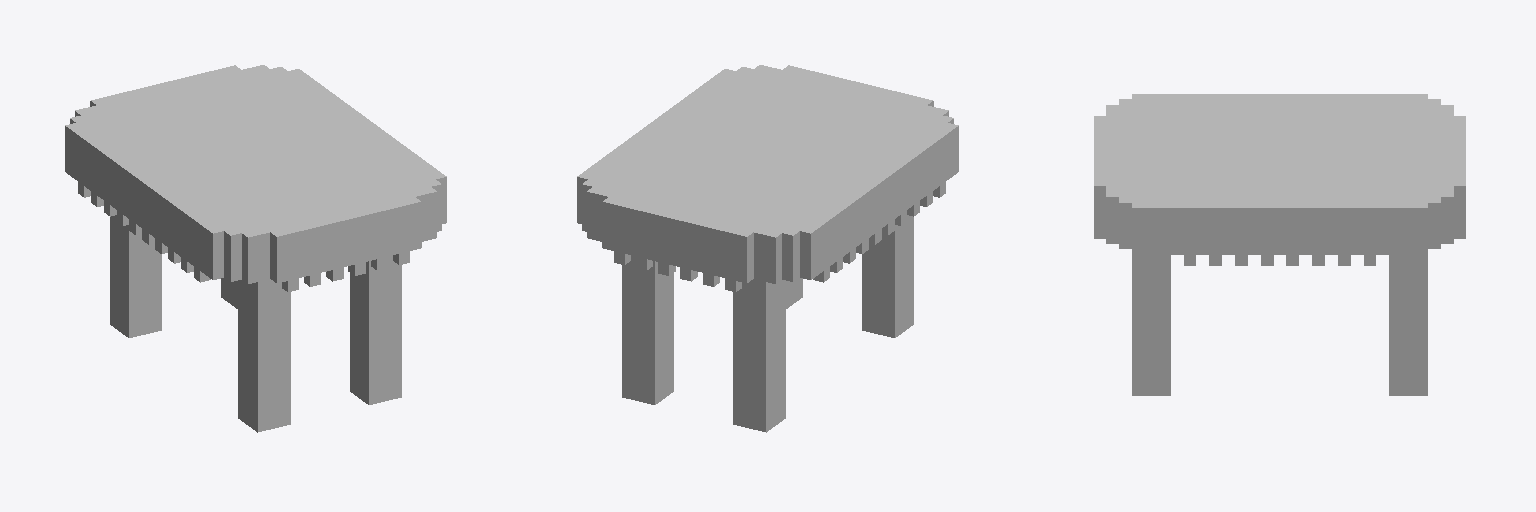
The model's file is Mesa  Cama.obj.
The picture shows the model from 3 angles: view 1: azimuth 30°, elevation 25°; view 2: azimuth 150°, elevation 25°; view 3: azimuth 270°, elevation 25°; orthographic projection.
Parts seen in each view (by area): view 1: Model; view 2: Model; view 3: Model.
Boxes of the visible parts, x1,y1,x2,y2 form: Model: [65, 65, 446, 432]; Model: [577, 65, 958, 432]; Model: [1094, 94, 1465, 395].
Size of the model in its own units: 23.17 by 19.86 by 32.